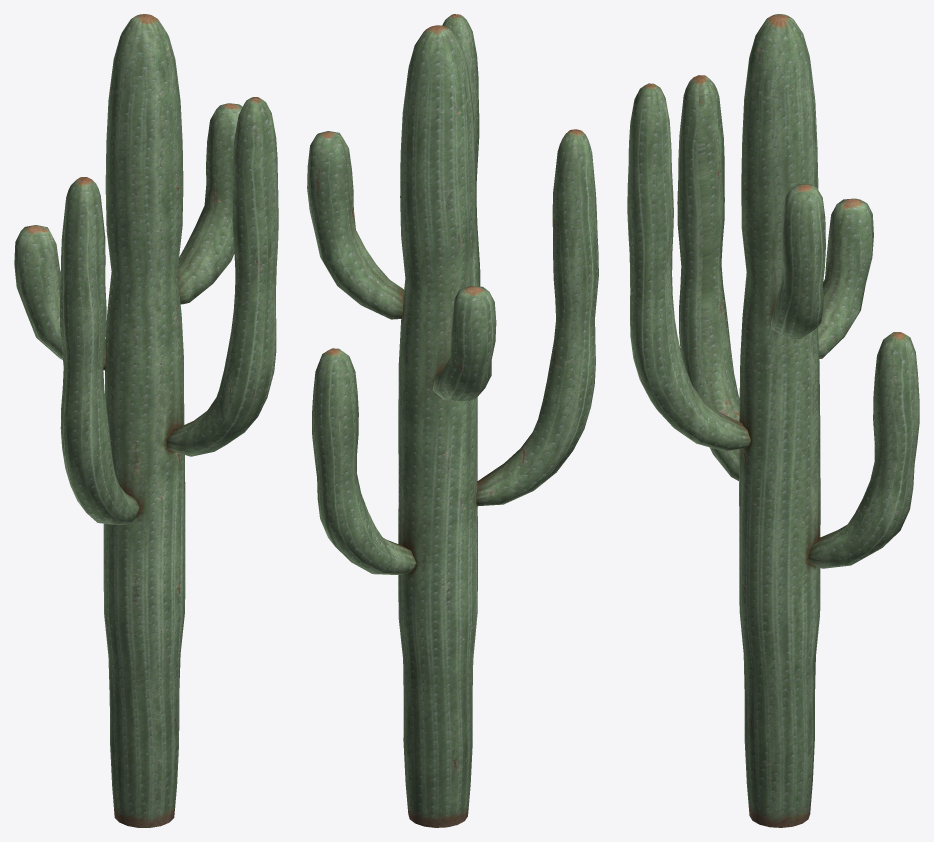
The model's file is Carnegiea_Saguaro_Spring_Adult.glb.
3 views of the same model, side by side, from view 1: azimuth 30°, elevation 25°; view 2: azimuth 150°, elevation 25°; view 3: azimuth 270°, elevation 25° (orthographic).
Visible parts, largest first — view 1: Carnegiea_Saguaro_Spring_Adult__LOD3; view 2: Carnegiea_Saguaro_Spring_Adult__LOD3; view 3: Carnegiea_Saguaro_Spring_Adult__LOD3.
Part boxes in pixels (x1=…): Carnegiea_Saguaro_Spring_Adult__LOD3: x1=14, y1=14, x2=278, y2=827; Carnegiea_Saguaro_Spring_Adult__LOD3: x1=307, y1=14, x2=598, y2=827; Carnegiea_Saguaro_Spring_Adult__LOD3: x1=627, y1=14, x2=919, y2=827.
Bounding box in the file's own units: 2.16 × 6.95 × 2.3.
1 material, 1 textured.
